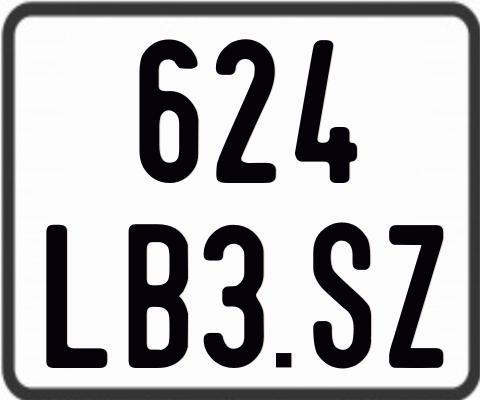2: (215, 39, 277, 183)
3: (203, 224, 269, 369)
4: (294, 38, 357, 187)
6: (137, 38, 198, 188)
B: (128, 221, 189, 367)
L: (45, 222, 109, 371)
S: (310, 219, 372, 368)
Z: (389, 224, 444, 370)
